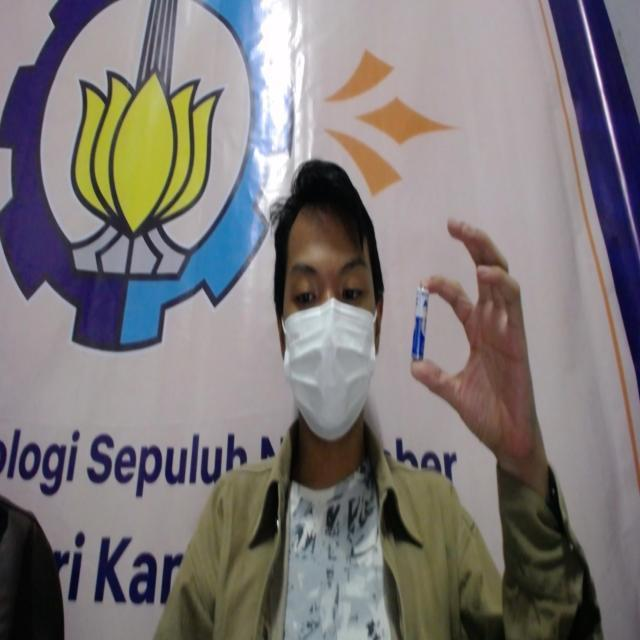Hazard: (410, 286, 430, 362)
